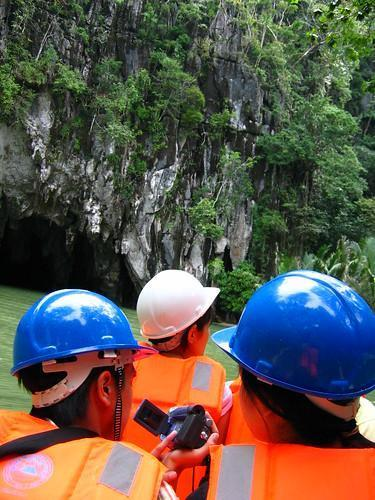vest: (209, 375, 374, 499), (0, 406, 168, 497), (122, 352, 227, 454)
